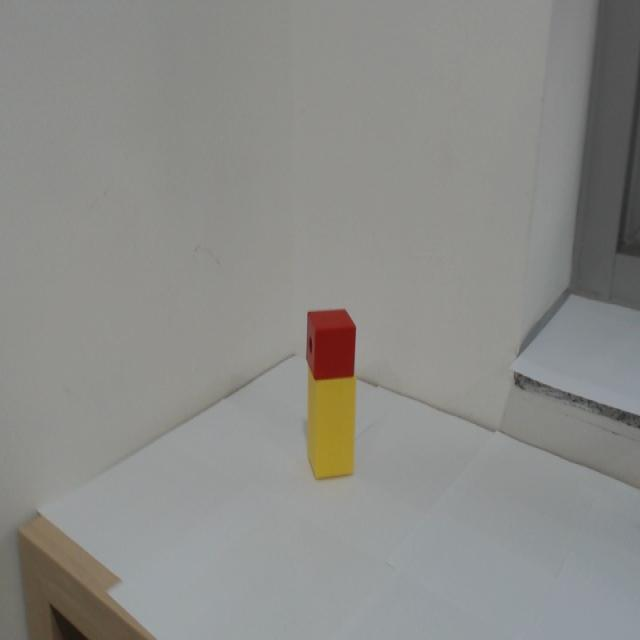cube: (304, 305, 359, 383)
